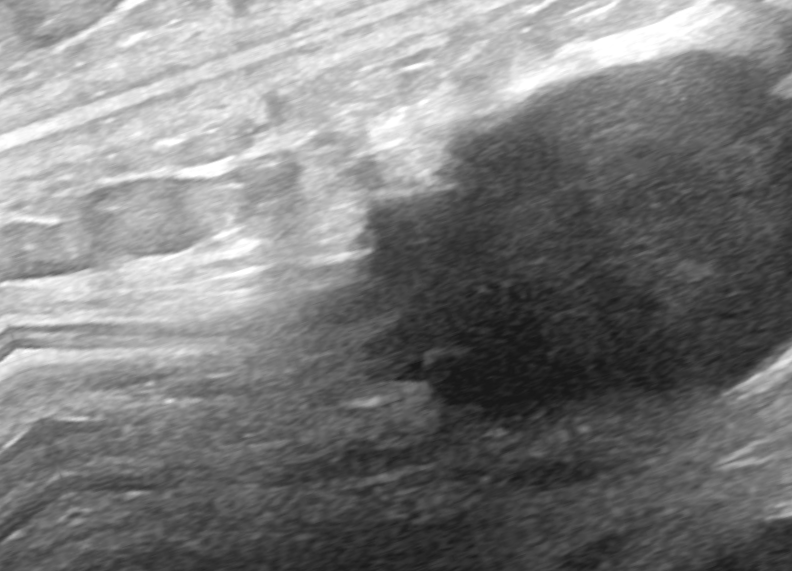Benign: (408, 61, 788, 392)
